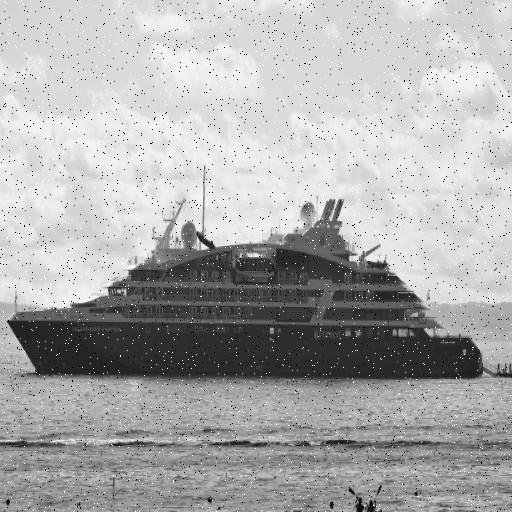cruises: (3, 162, 487, 388)
